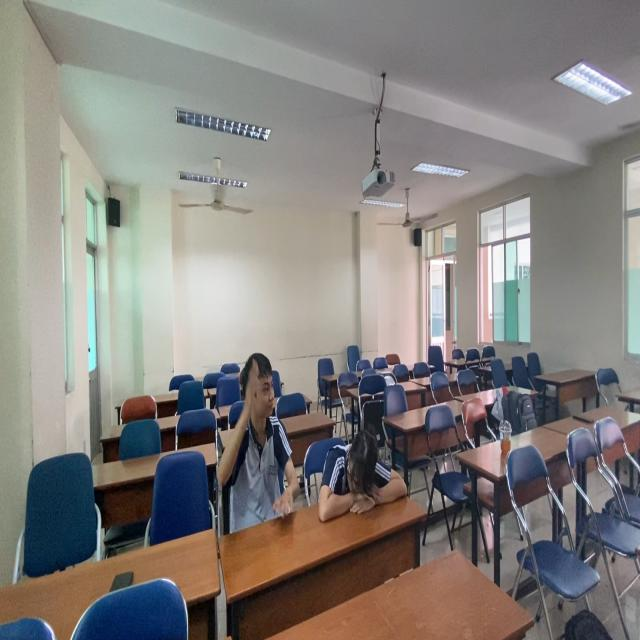raise_hand: (216, 350, 303, 529)
sleep: (317, 430, 414, 531)
